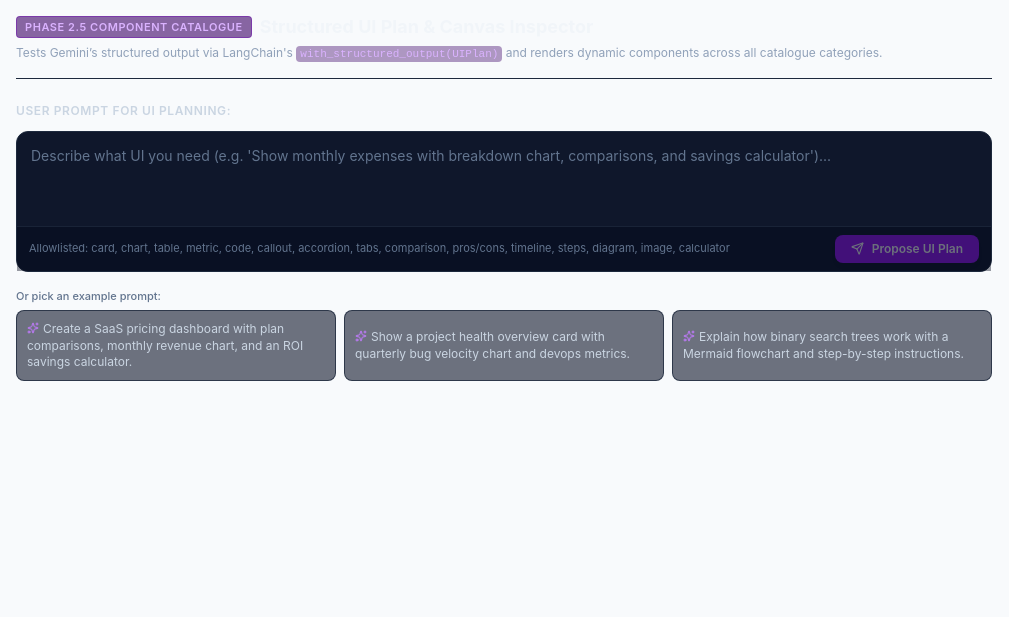
Test: UIPlanInspector Component › handles empty component list without error
Replace the text in the text box with test id "plan-prompt-input" with "Explain bubble sort" at (504, 176), box [17,132,991,220]
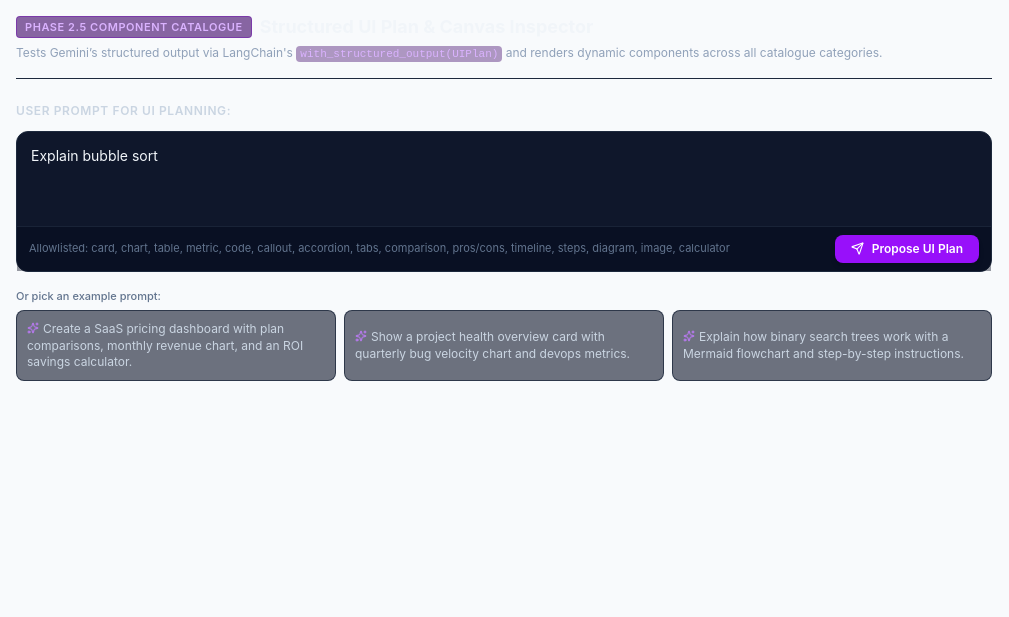
Click the button with test id "generate-plan-button" at (907, 249), box [835,235,979,263]
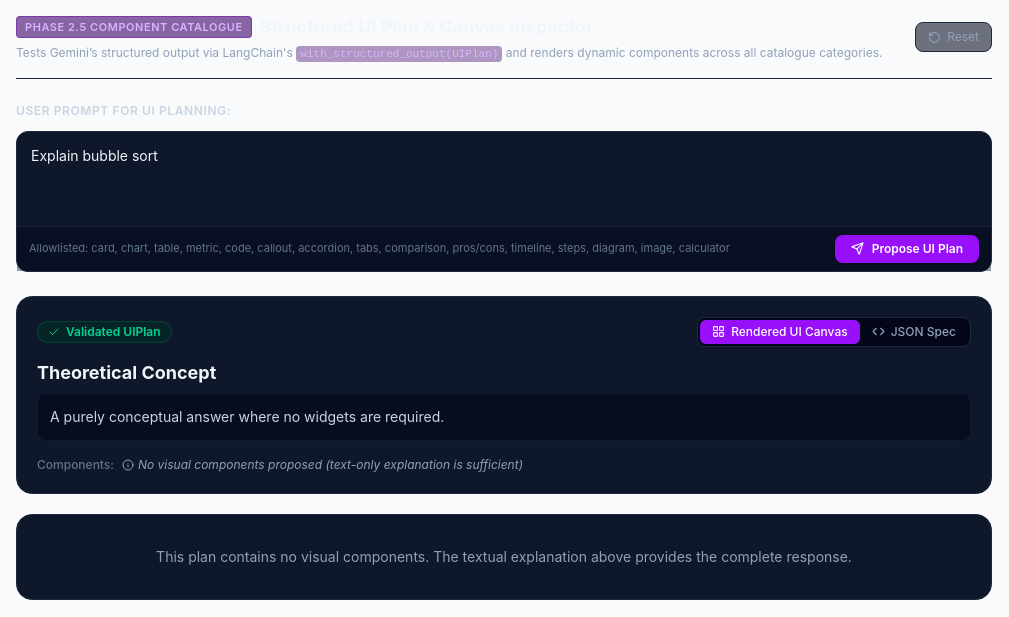
Now the heading with test id "plan-title" reads "Theoretical Concept", box [37,362,216,383]
Now the text "No visual components proposed" is shown, box [138,457,523,472]
